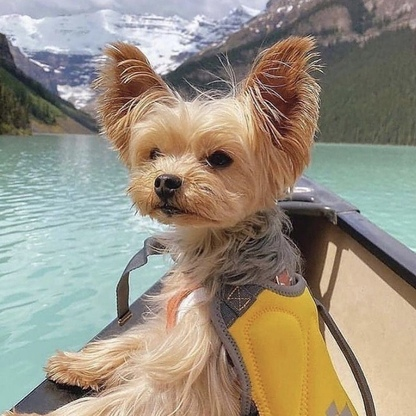yorkshire: (60, 42, 320, 416)
